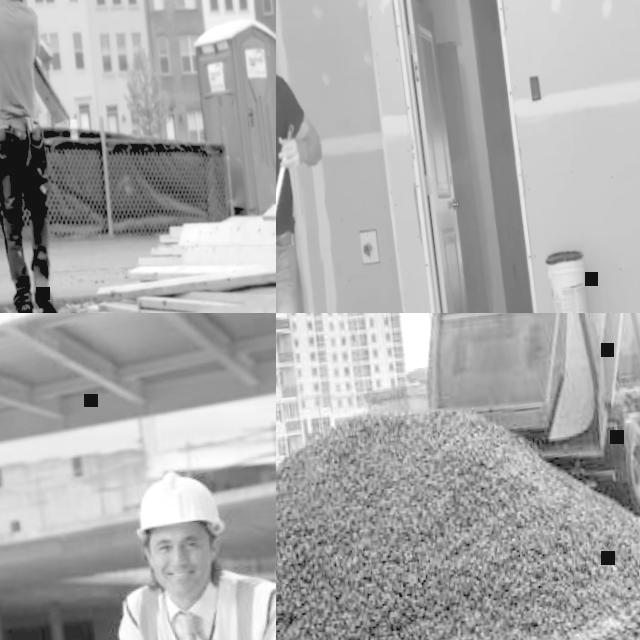helmet: (131, 466, 226, 545)
machinery: (385, 313, 640, 536)
no_mask: (157, 563, 208, 601)
no_vest: (0, 0, 51, 129), (276, 60, 303, 249)
person: (93, 458, 276, 640), (276, 0, 370, 313), (0, 0, 82, 313)
vest: (124, 562, 276, 640)
